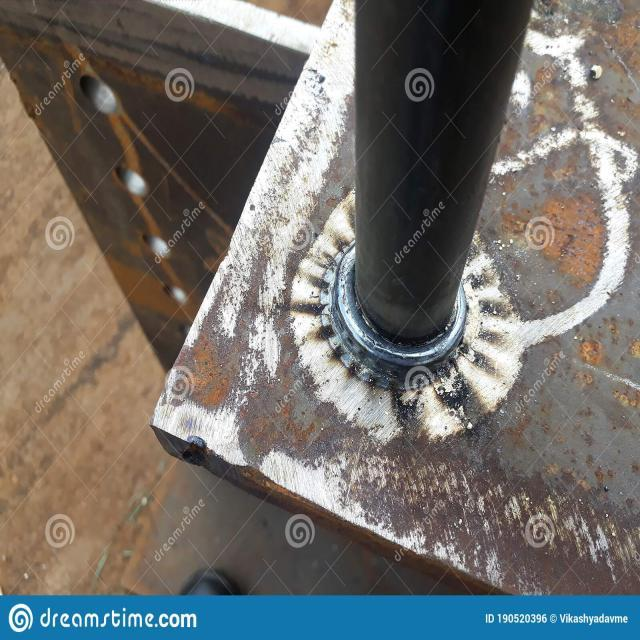Good Weld: (338, 310, 460, 378)
